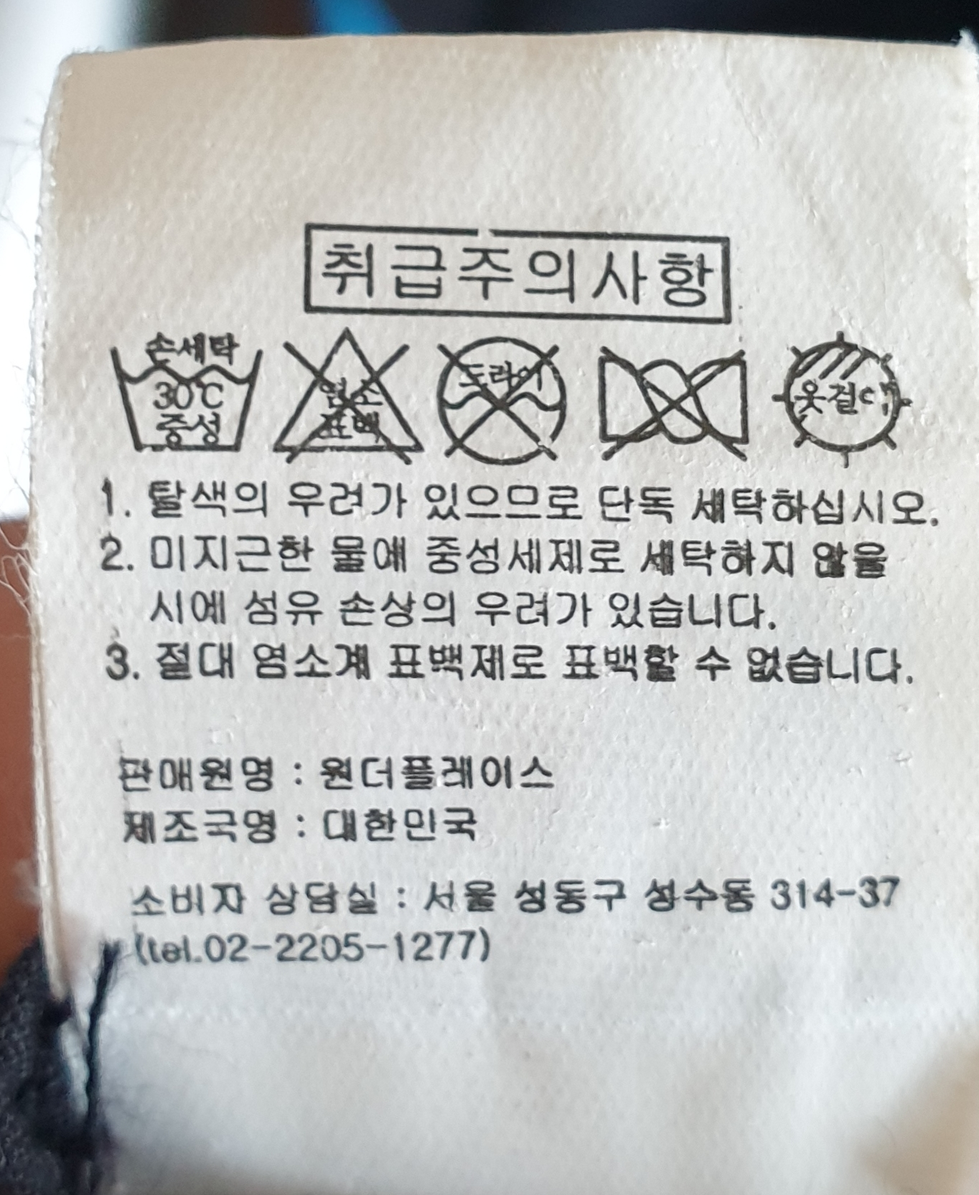KR_hand_wash_30_neutral: (105, 331, 263, 461)
KR_hang_dry_in_shade: (773, 332, 920, 467)
KR_no_chlorine_bleach: (263, 331, 426, 464)
KR_no_dry_clean: (440, 332, 574, 470)
KR_no_wring: (586, 341, 756, 466)
